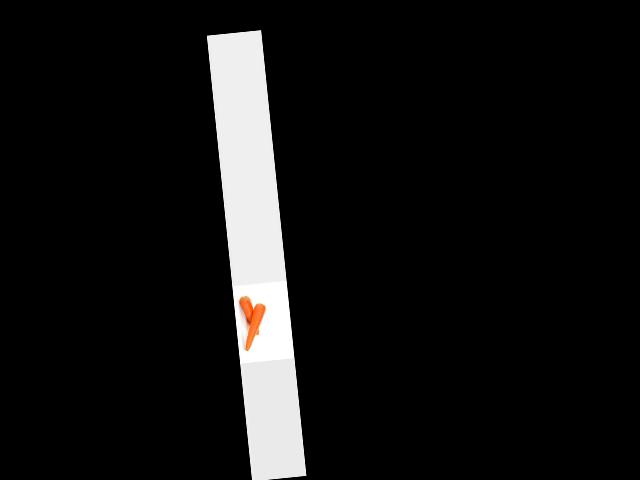carrot: (237, 292, 261, 340)
